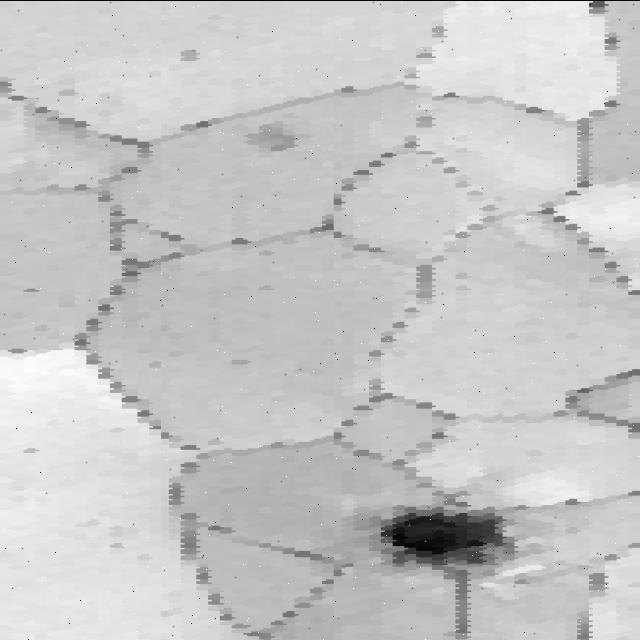good_void: (337, 490, 526, 572), (244, 120, 302, 151), (173, 46, 208, 64), (220, 351, 254, 369), (15, 283, 49, 295), (16, 445, 49, 455), (2, 345, 33, 355), (559, 495, 581, 508), (226, 238, 254, 247)
